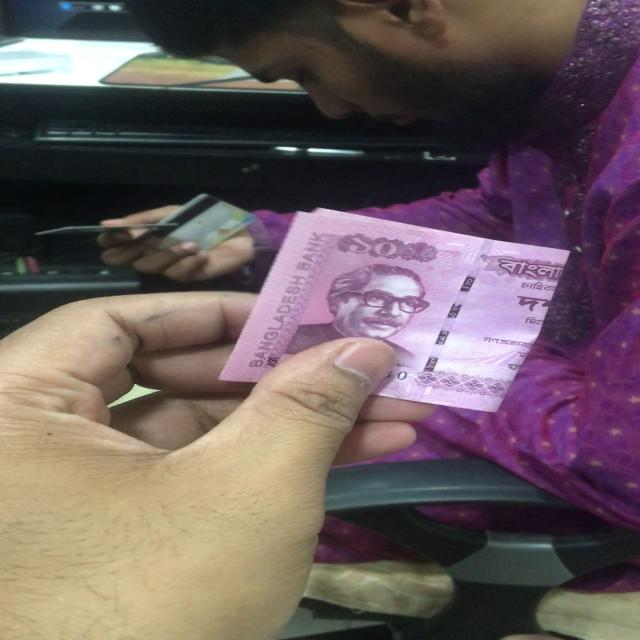Taka: (215, 205, 579, 414)
